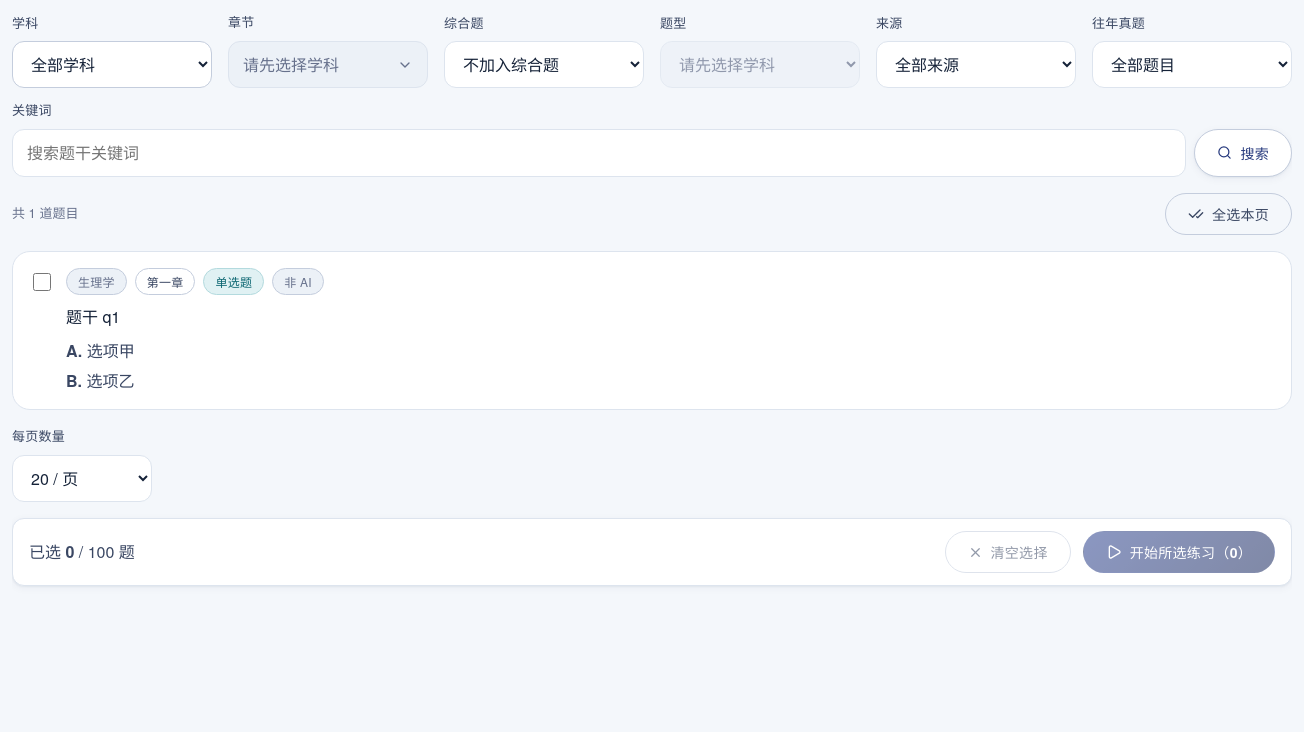
it: QuizLibrary › keeps the selection when starting fails so the user can retry
This screenshot has width=1304, height=732.
What coordinates should you click on to do the following:
click the checkbox named "选择题目：题干 q1"
I would click on:
 (42, 282)
Its box is left=33, top=273, right=51, bottom=291.
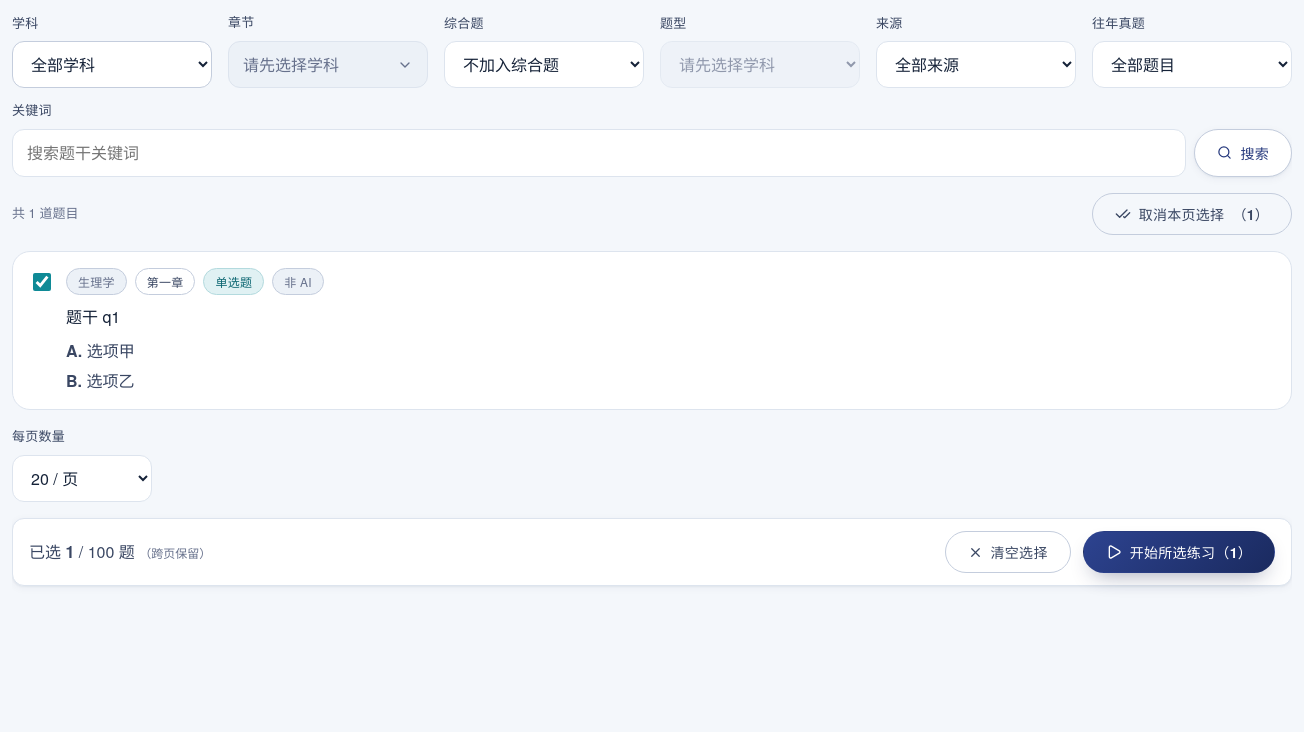
What coordinates should you click on to do the following:
click the button "开始所选练习（1）"
I would click on:
 (1179, 552)
Its box is left=1083, top=531, right=1275, bottom=573.
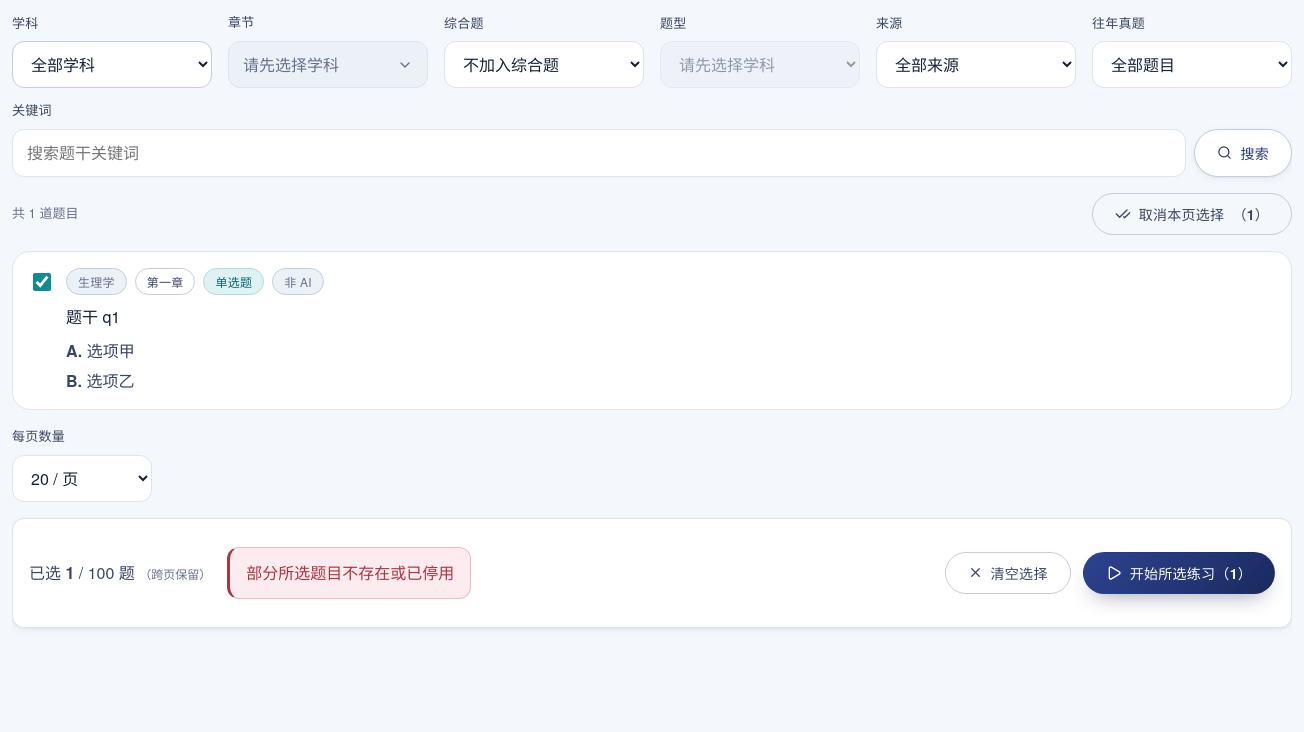
Expected: the message with class "selection-count" shows "1", left=66, top=561, right=74, bottom=584
Expected: the text "部分所选题目不存在或已停用" is shown, left=227, top=547, right=471, bottom=599
